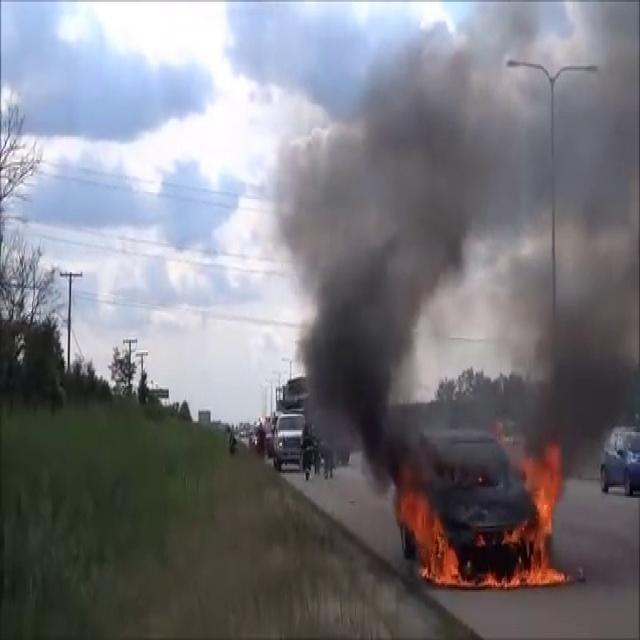Fire: (515, 448, 570, 591), (399, 482, 463, 590)
Smoke: (274, 2, 640, 466)
